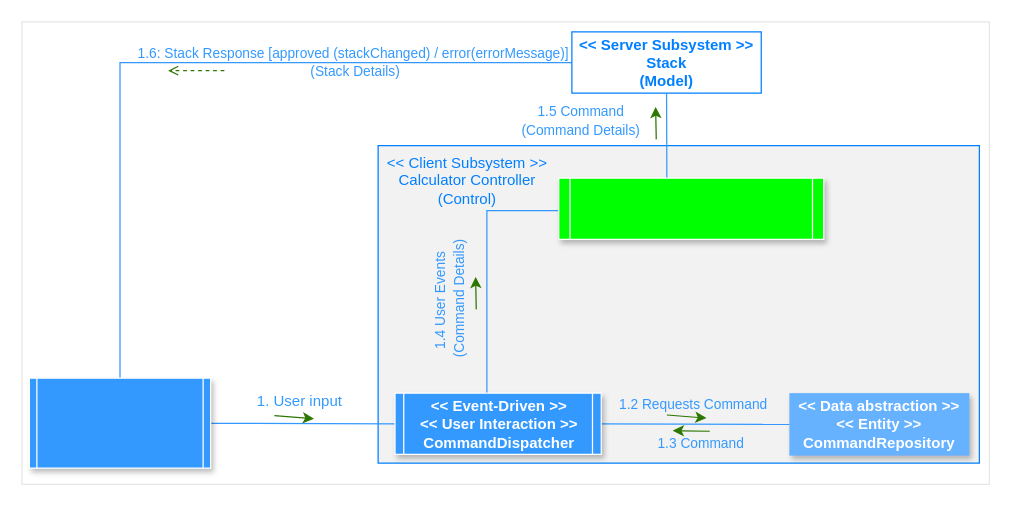
The diagram is 1011 pixels wide and 506 high, and some of its shapes have lost their labels. Here are the shapes that lost their labels. From the top down, the centre of each, then its label:
At point (691, 210): "<< Demand >> << State-dependent Control >> CommandManager".
At point (120, 424): "<< Event-Driven >> << External User >> User Interface (View)".
